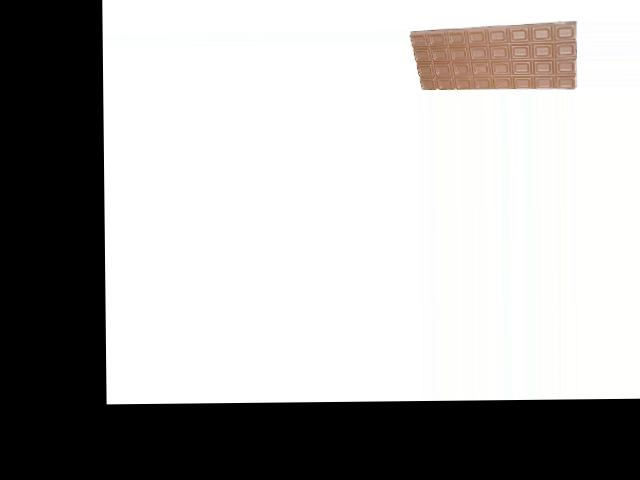chocolate: (407, 23, 579, 90)
